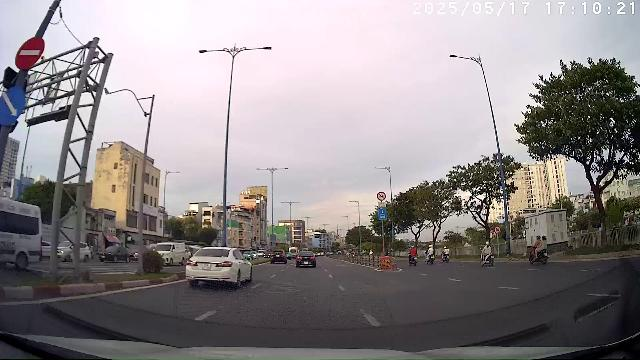102-cam-di-nguoc-chieu: (15, 35, 45, 70)
103a-cam-oto: (493, 225, 502, 234)
302a-huong-phai-di-vong-chuong-ngai-vat-1: (1, 85, 25, 126)
